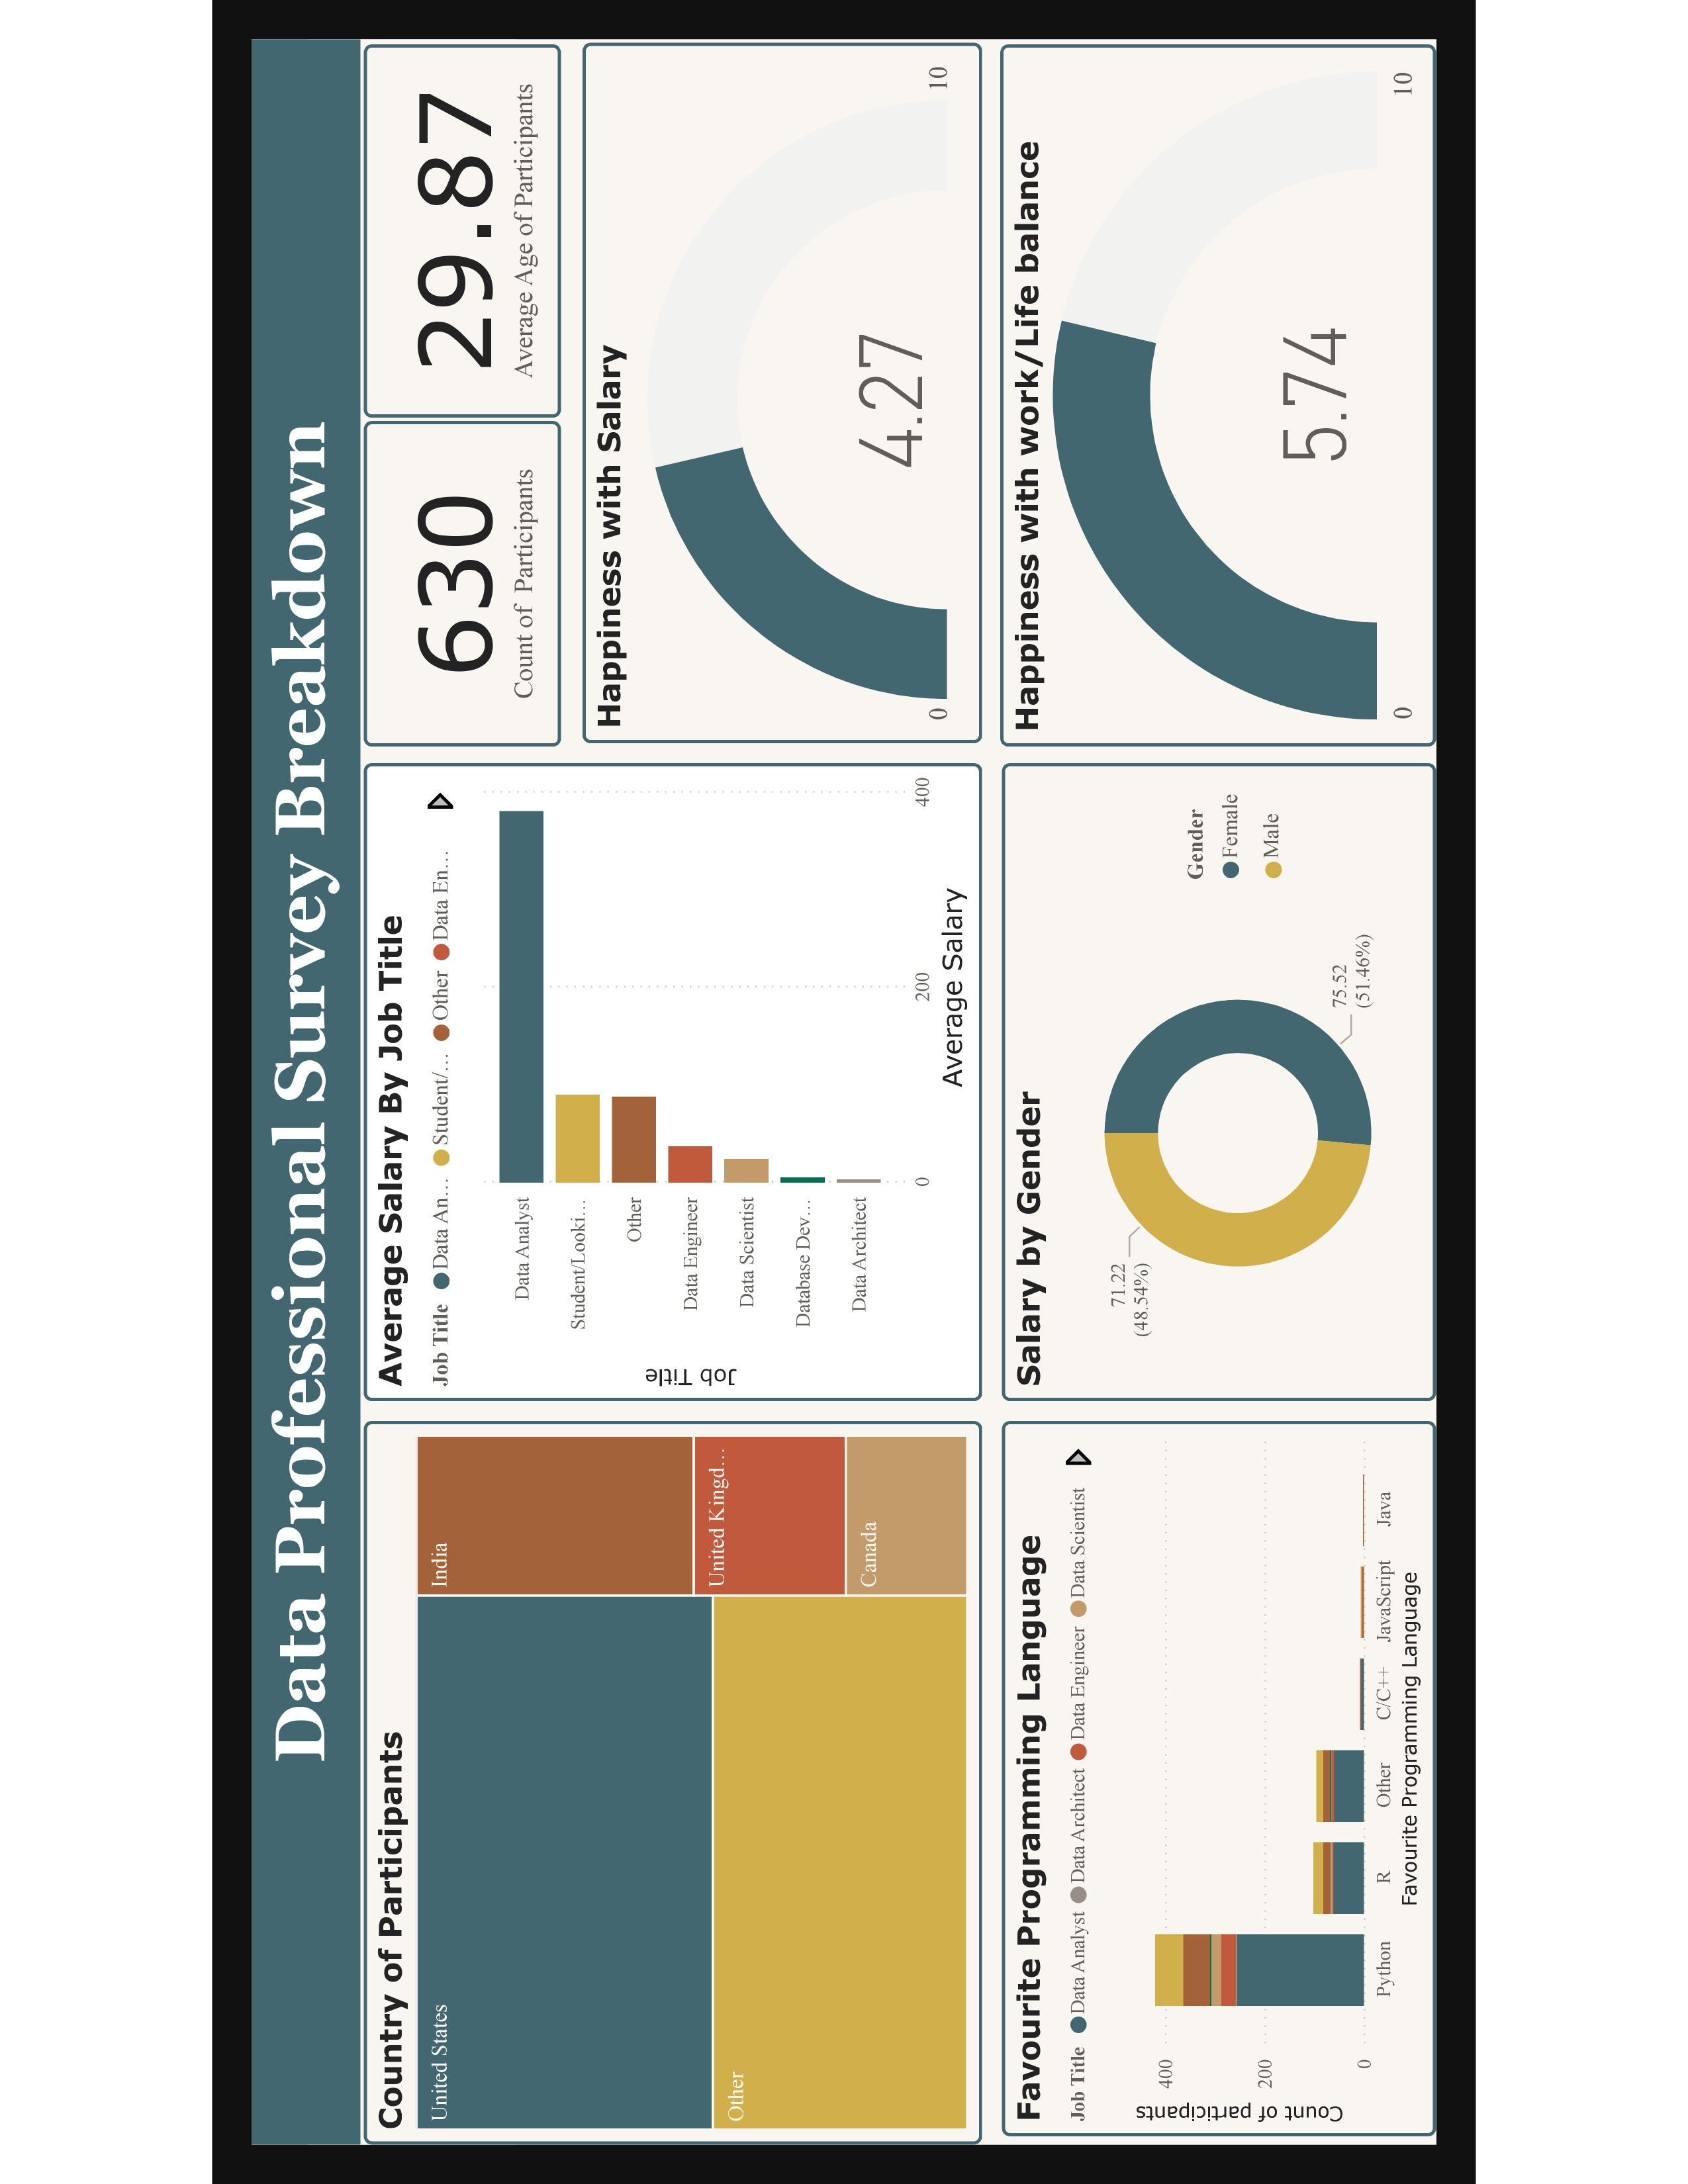

This screenshot's page, from the dashboard's own definition file:
{"tool":"powerbi","page":{"name":"Page 1","canvas":[1280,720],"ordinal":0},"visuals":[{"type":"card","fields":{"Values":["Count(Data Professional Survey.Unique ID)"]},"box":[849.9,68.3,198,119.5],"z":0},{"type":"card","fields":{"Values":["Avg(Data Professional Survey.Q10 - Current Age)"]},"box":[1049.6,68.3,227,119.5],"z":1000},{"type":"barChart","title":"Average Salary By Job Title","fields":{"Category":["Data Professional Survey.Job Title"],"Y":["CountNonNull(Data Professional Survey.Average Salary)"],"Series":["Data Professional Survey.Job Title"]},"box":[452.3,68.3,387.4,375.5],"z":2000},{"type":"textbox","box":[0,0,1280,65.6],"z":3000},{"type":"columnChart","title":"Favourite Programming Language","fields":{"Category":["Data Professional Survey.Favourite Programming Language"],"Y":["CountNonNull(Data Professional Survey.Unique ID)"],"Series":["Data Professional Survey.Job Title"]},"box":[5.1,455.7,435.2,264.5],"z":4000},{"type":"gauge","title":"Happiness with Salary","fields":{"Y":["Avg(Data Professional Survey.Q6 - How Happy are you in your Current Position with the following? (Salary))"],"MinValue":["Min(Data Professional Survey.Q6 - How Happy are you in your Current Position with the following? (Salary))"],"MaxValue":["Max(Data Professional Survey.Q6 - How Happy are you in your Current Position with the following? (Salary))"]},"box":[851.6,201.4,426.7,242.3],"z":5000},{"type":"gauge","title":"Happiness with work/Life balance","fields":{"Y":["Avg(Data Professional Survey.Q6 - How Happy are you in your Current Position with the following? (Work/Life Balance))"],"MinValue":["Min(Data Professional Survey.Q6 - How Happy are you in your Current Position with the following? (Work/Life Balance))"],"MaxValue":["Max(Data Professional Survey.Q6 - How Happy are you in your Current Position with the following? (Work/Life Balance))"]},"box":[849.9,455.5,426.7,264.5],"z":6000},{"type":"donutChart","title":"Salary by Gender","fields":{"Category":["Data Professional Survey.Q9 - Male/Female?"],"Y":["Avg(Data Professional Survey.Average Salary)"]},"box":[452.3,455.7,387.4,264.5],"z":7001},{"type":"treemap","title":"Country of Participants","fields":{"Values":["CountNonNull(Data Professional Survey.Q11 - Which Country do you live in?)"],"Group":["Data Professional Survey.Country of Residence"]},"box":[0,68.3,440.3,375.5],"z":7002}]}

Visuals, with their boxes on the page's 1280x720 design canvas (x1, y1, x2, y2). These are canvas units, not pixel positions in the 1688x2184 screenshot, which may show the page scaled, cropped or inside an application window:
card - Count(Data Professional Survey.Unique ID): [850,68,1048,188]
card - Avg(Data Professional Survey.Q10 - Current Age): [1050,68,1277,188]
"Average Salary By Job Title" barChart: [452,68,840,444]
textbox: [0,0,1280,66]
"Favourite Programming Language" columnChart: [5,456,440,720]
"Happiness with Salary" gauge: [852,201,1278,444]
"Happiness with work/Life balance" gauge: [850,456,1277,720]
"Salary by Gender" donutChart: [452,456,840,720]
"Country of Participants" treemap: [0,68,440,444]
